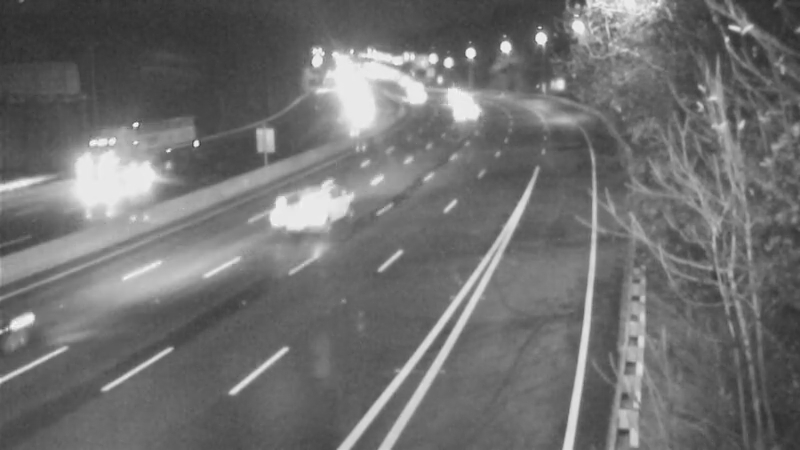vehicle: (1, 272, 90, 382), (280, 172, 360, 252), (49, 126, 129, 206), (384, 69, 434, 119), (437, 84, 487, 134)
